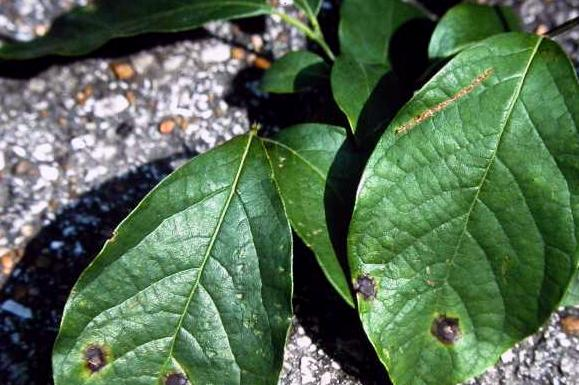Tomato leaf bacterial spot: (329, 30, 579, 385), (20, 128, 302, 385)
